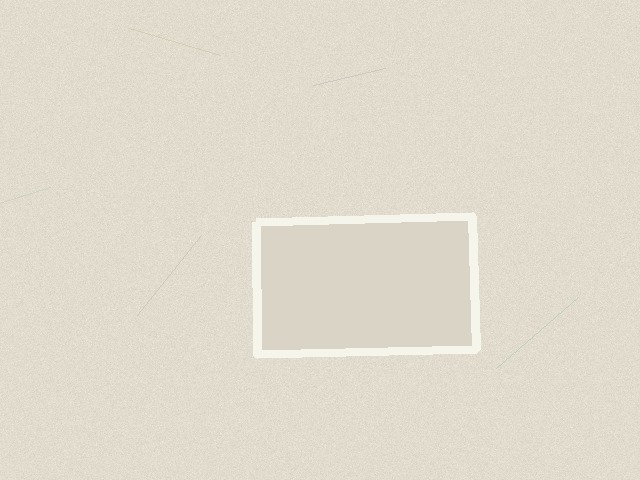parking_area: (256, 216, 476, 354)
